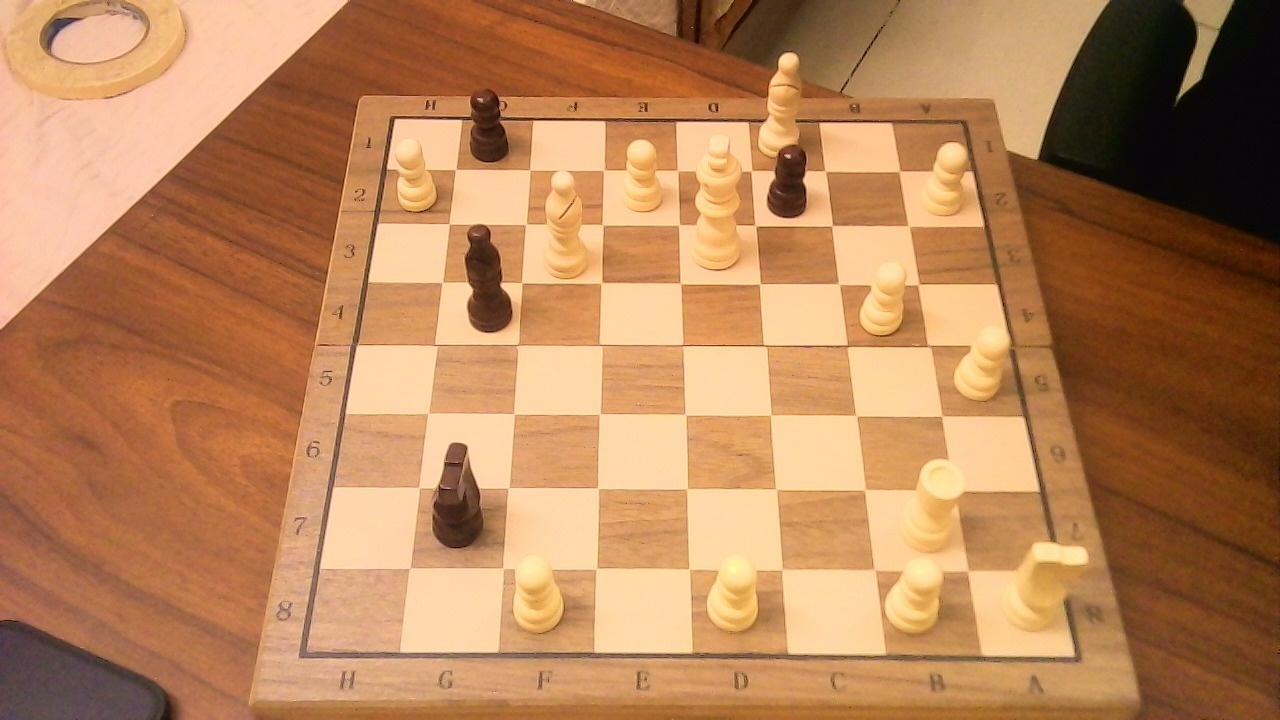B: (533, 159, 596, 282), (754, 41, 813, 162)
K: (684, 123, 753, 275)
N: (993, 529, 1096, 636)
P: (504, 544, 572, 638), (699, 544, 767, 636), (947, 316, 1018, 404), (883, 547, 952, 636), (914, 133, 977, 219), (853, 252, 915, 338), (612, 130, 669, 217), (386, 130, 443, 214)
R: (892, 448, 972, 556)
b: (453, 209, 520, 337)
n: (421, 428, 497, 551)
p: (760, 134, 820, 222), (463, 80, 518, 165)
